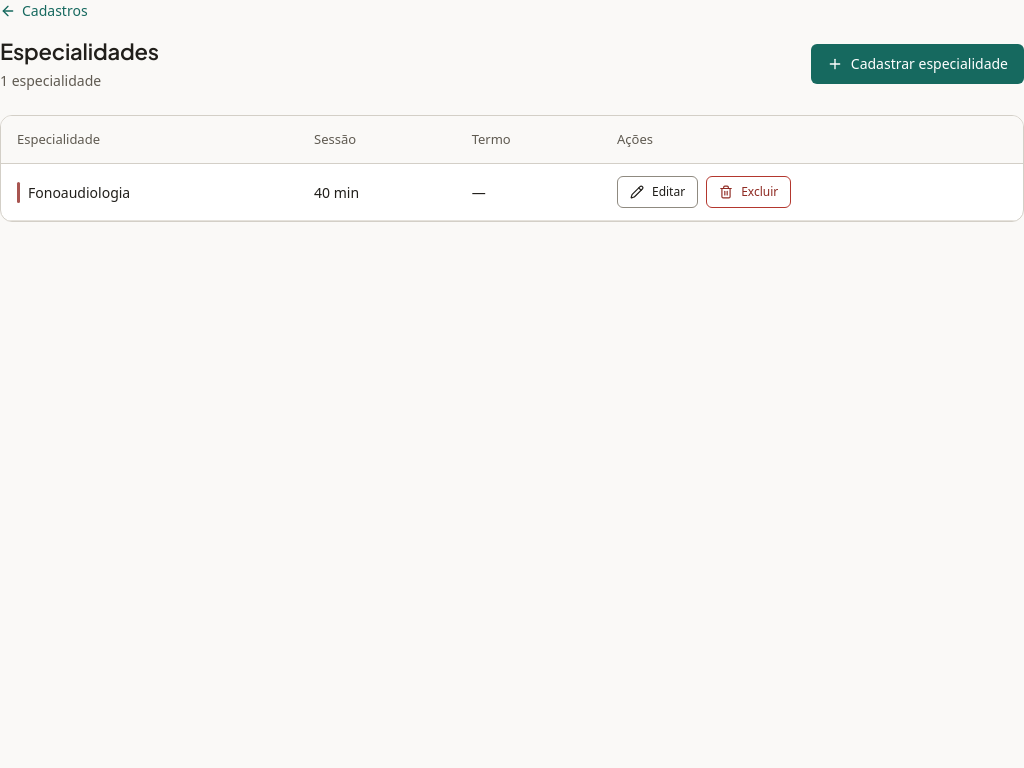
Test: Catálogo — exclusão recusada por uso › deve mostrar a recusa no diálogo e manter o registro na lista
Expected: the text "Fonoaudiologia" is shown, [28, 182, 130, 203]
Click the button "Excluir" at (749, 192), box [706, 176, 791, 208]
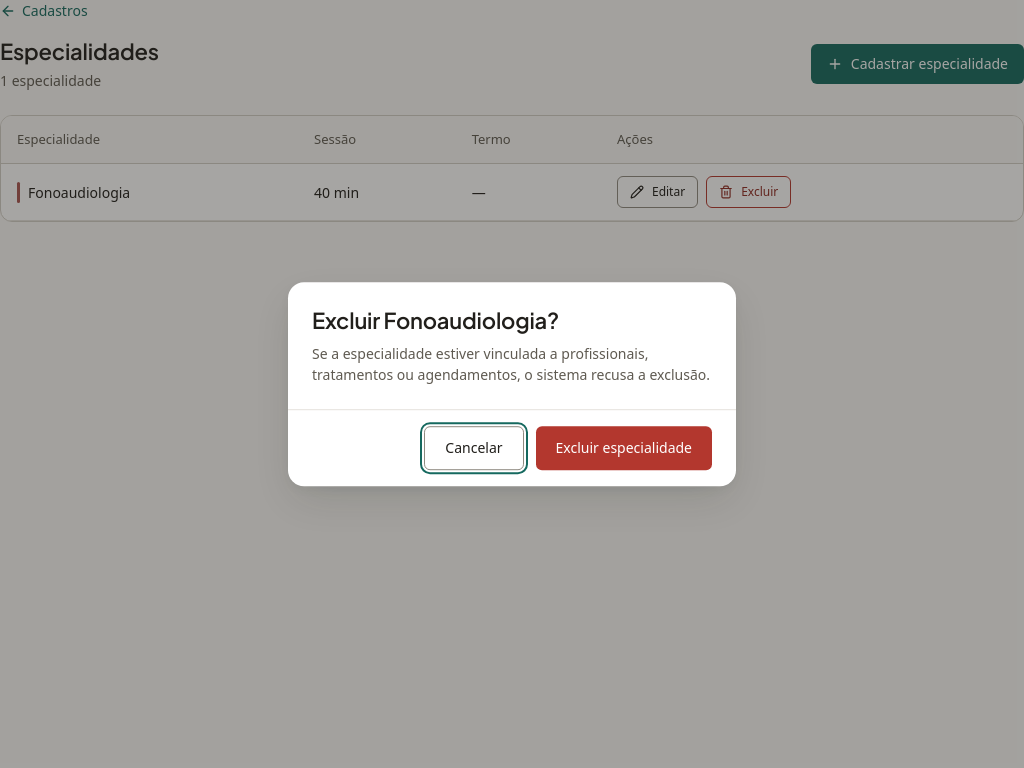
Click the button "Excluir especialidade" at (624, 448), box [536, 426, 712, 470]
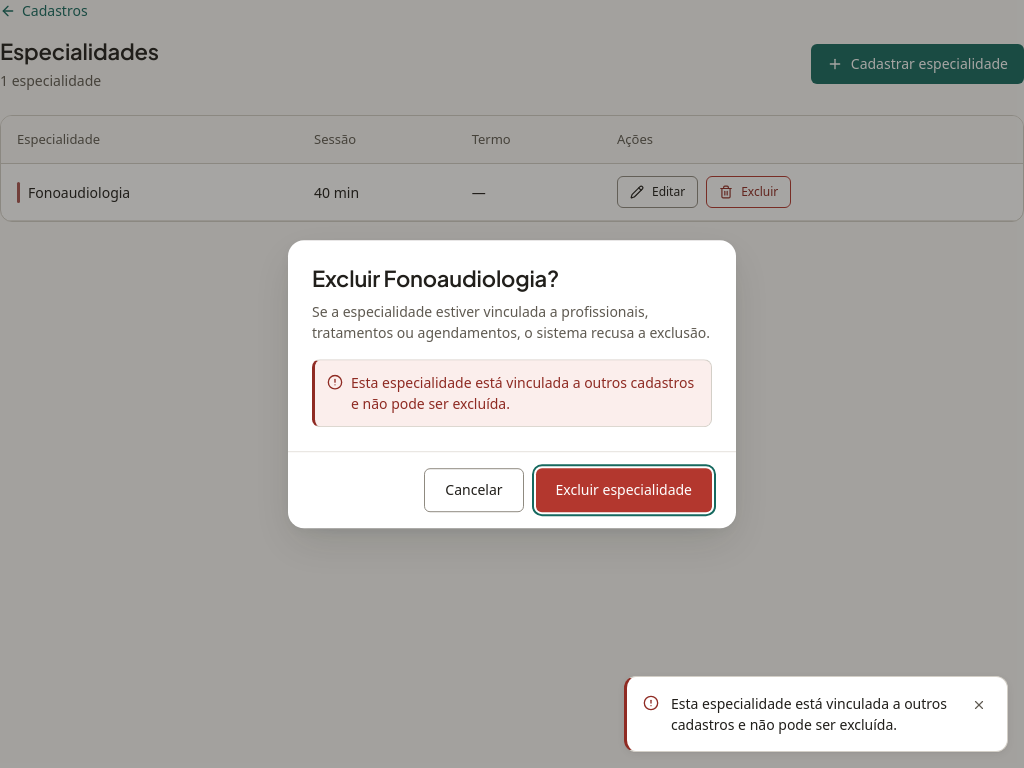
Expected: the text "Fonoaudiologia" is shown, [28, 182, 130, 203]
Expected: the text "Esta especialidade está vinculada a outros cadastros e não pode ser excluída." below "Excluir Fonoaudiologia?" is shown, [351, 373, 694, 413]
